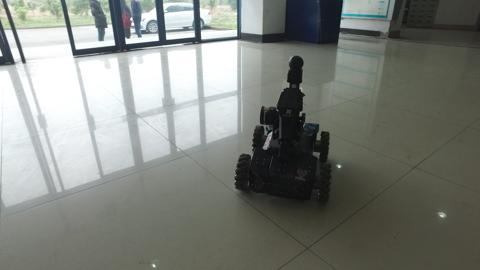car: (129, 1, 214, 34)
chariot: (233, 54, 333, 205)
